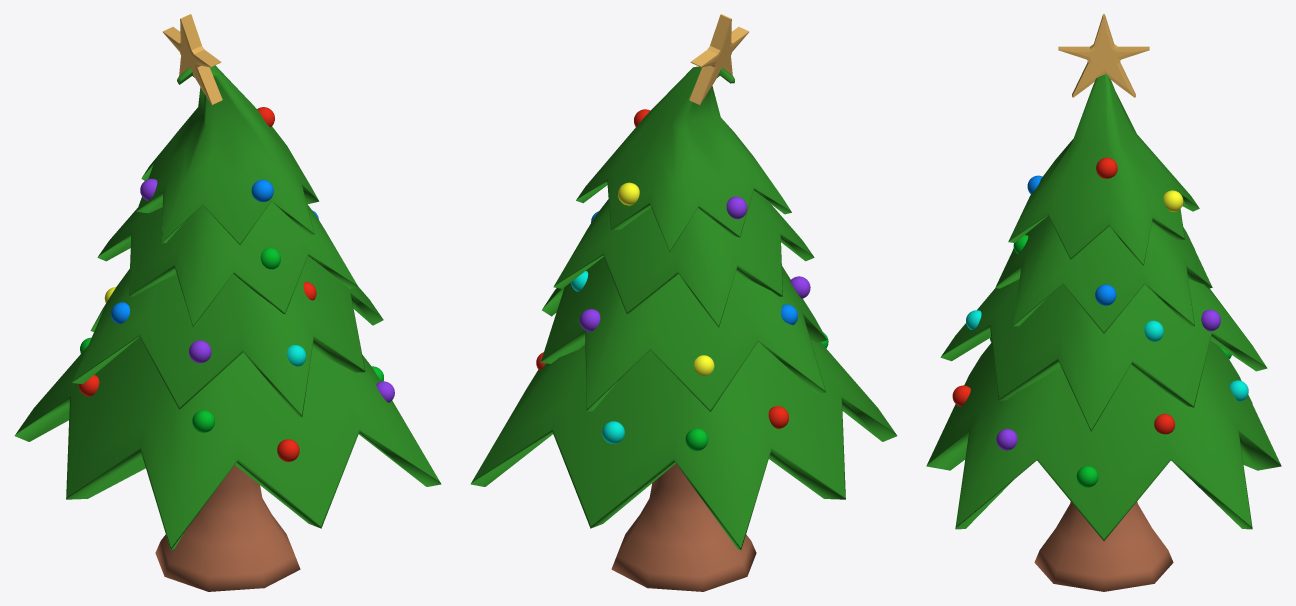
The model's file is Tree.fbx.
3 views of the same model, side by side, from view 1: azimuth 30°, elevation 25°; view 2: azimuth 150°, elevation 25°; view 3: azimuth 270°, elevation 25° (orthographic). The views are drawn at different scales.
Parts seen in each view (by area): view 1: Sphere.021; view 2: Sphere.021; view 3: Sphere.021.
Part boxes in pixels (<box>): Sphere.021: <box>14,14,441,591</box>; Sphere.021: <box>470,14,897,591</box>; Sphere.021: <box>926,14,1281,591</box>.
Size of the model in its own units: 732 by 1216 by 732.
